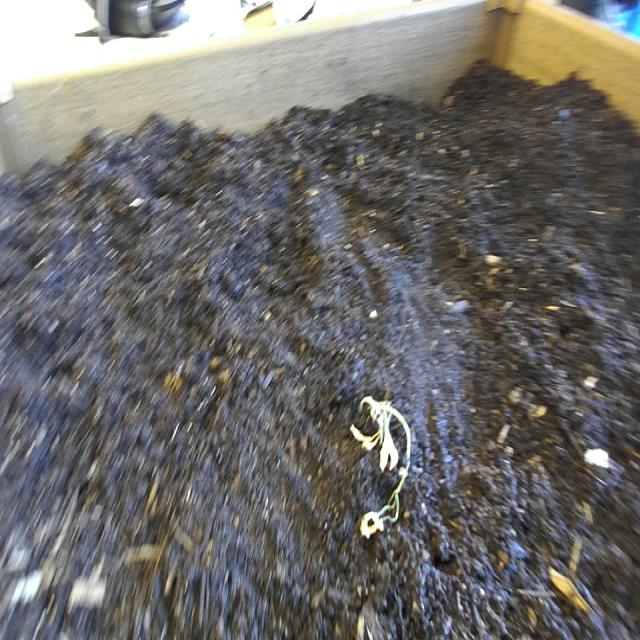Unhealthy: (349, 390, 415, 545)
